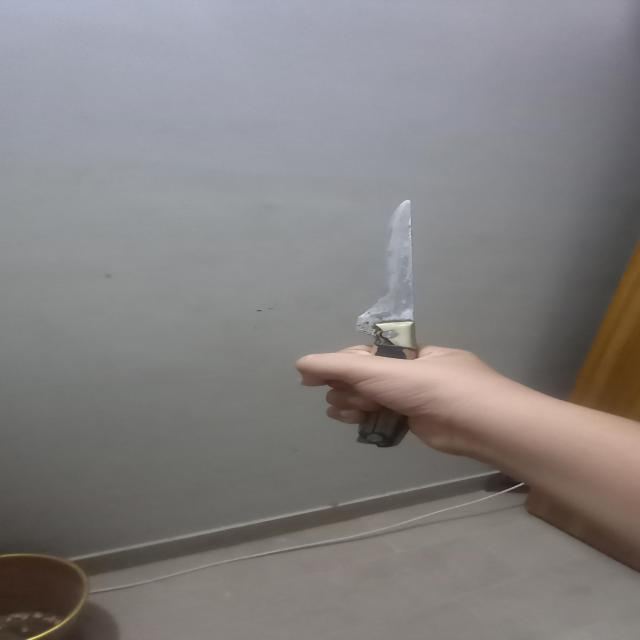Knife: (354, 198, 416, 446)
Person: (292, 345, 640, 543)
